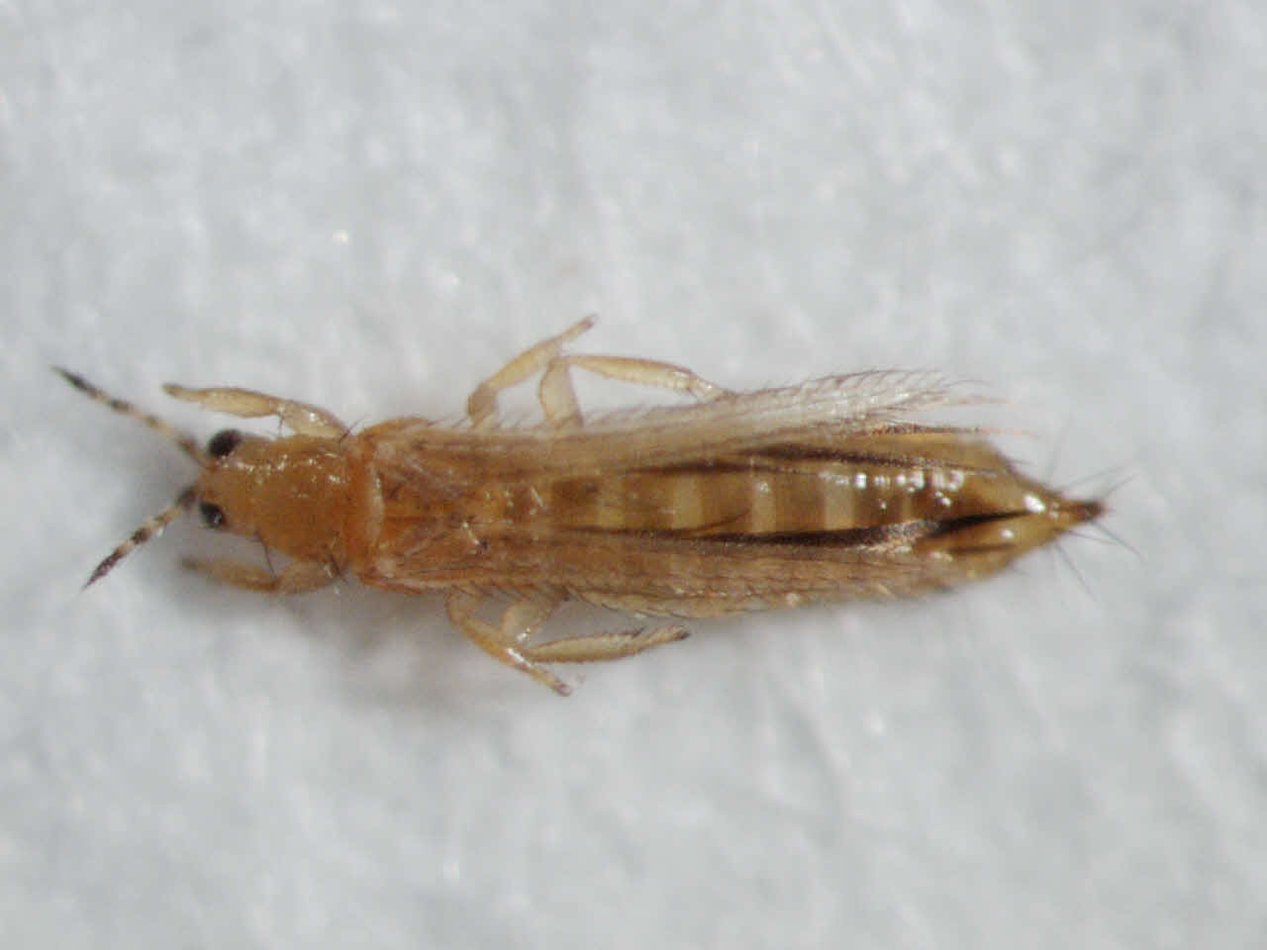Thrips: (49, 254, 1157, 709)
